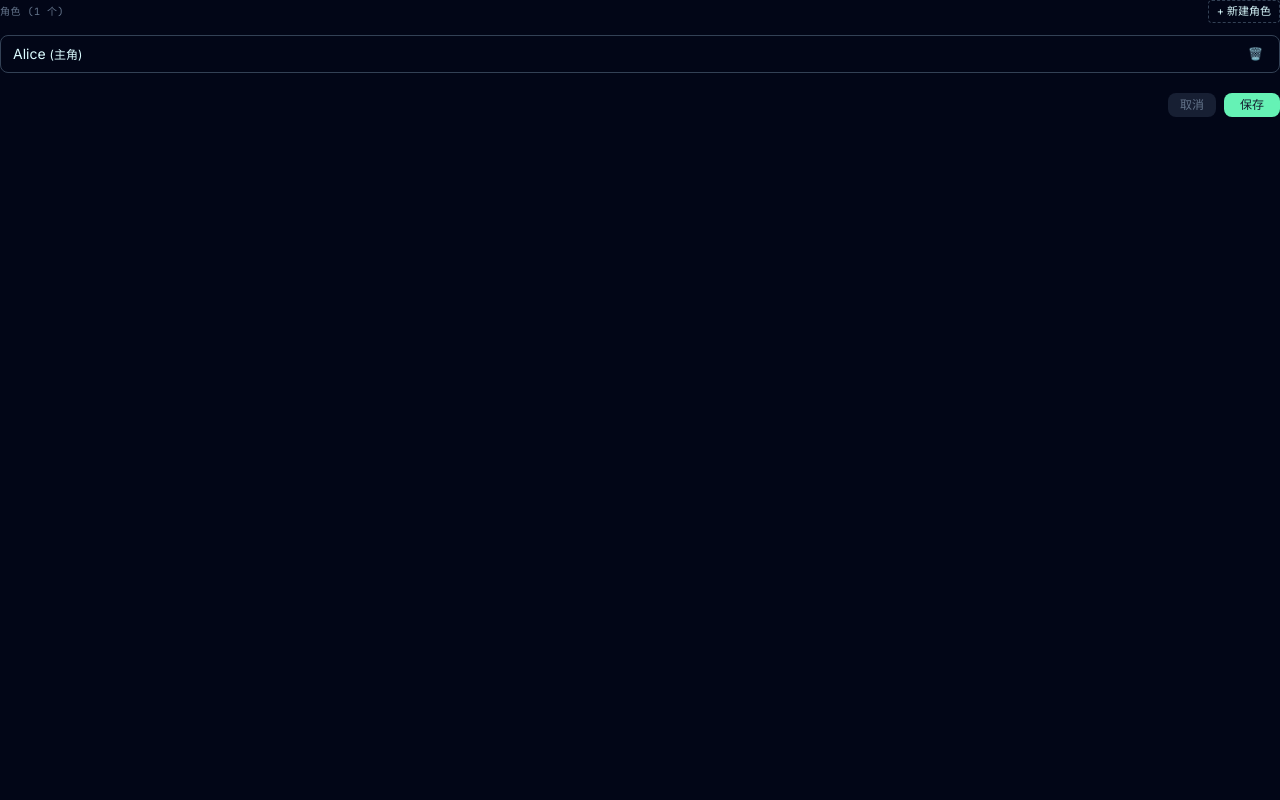
CharacterEditor workspace add/delete › clicking delete opens confirmation modal
Click the button with test id "character-delete-0" at (1256, 54), box [1244,46,1267,62]
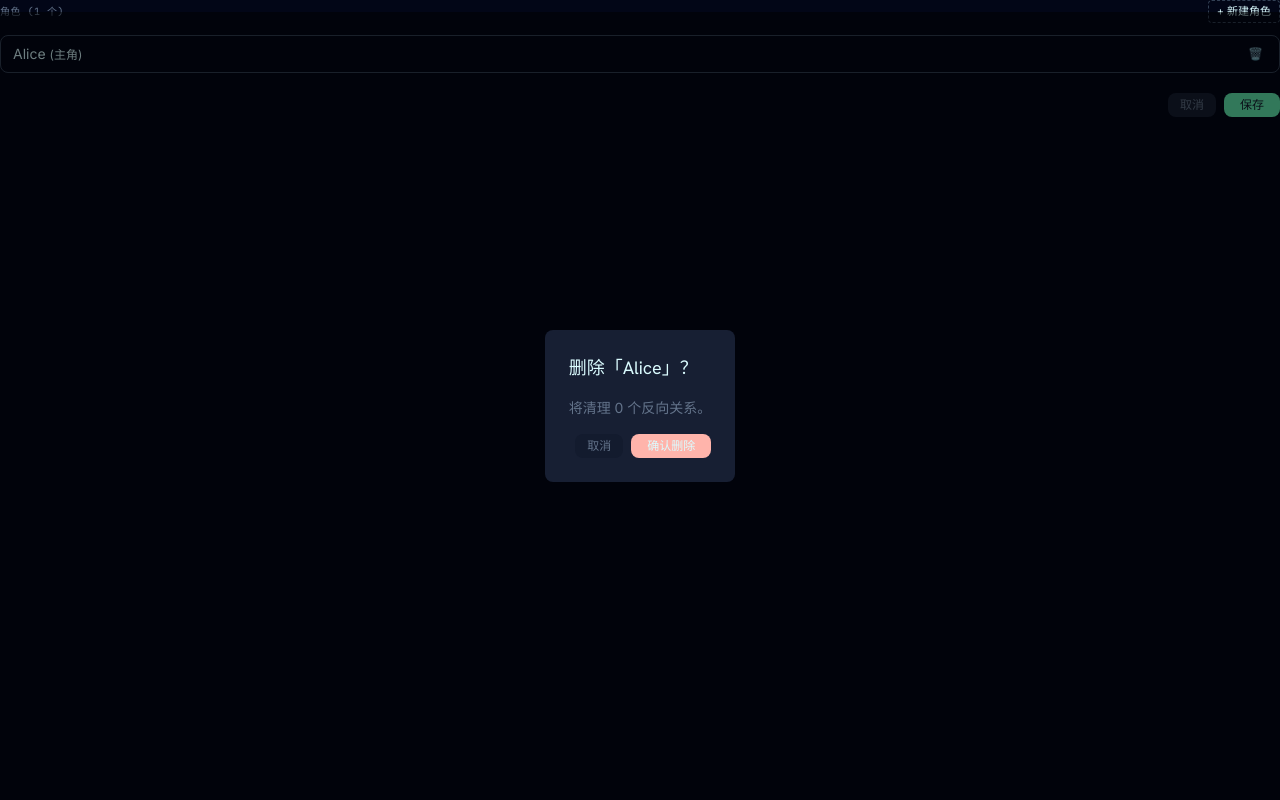
Result: the element with test id "delete-confirm-modal" is shown
